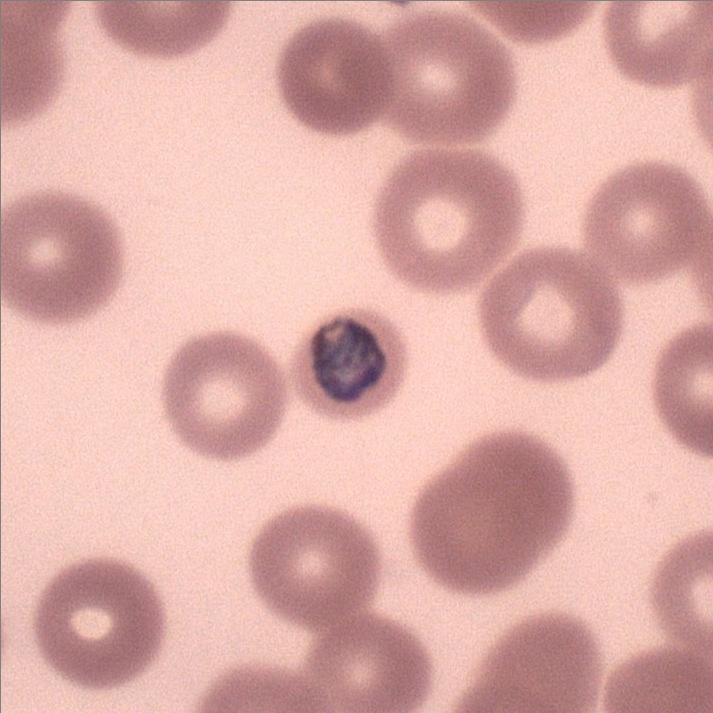Infected: (287, 306, 410, 420)
Uninfected: (410, 432, 577, 593), (370, 151, 526, 295), (380, 11, 520, 145), (32, 557, 167, 690), (483, 254, 622, 380), (247, 504, 379, 628), (0, 191, 122, 320), (167, 331, 287, 459), (280, 14, 397, 136), (590, 162, 702, 279)
